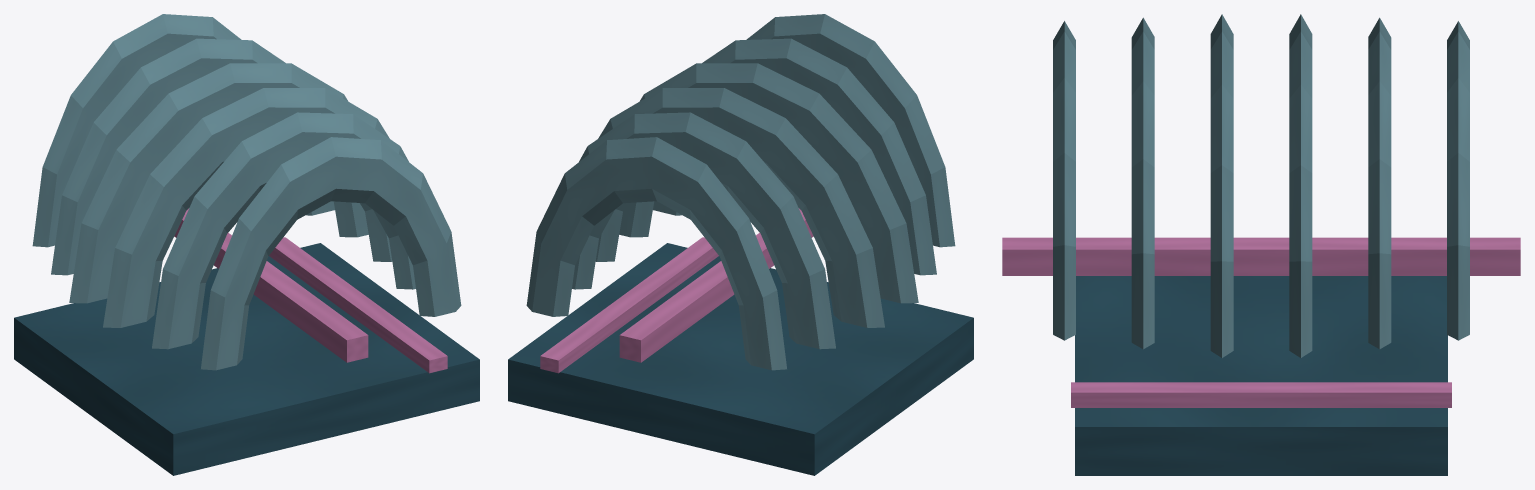
The model's file is atlas100-s061-a01.lod2.glb.
3 views of the same model, side by side, from view 1: azimuth 30°, elevation 25°; view 2: azimuth 150°, elevation 25°; view 3: azimuth 270°, elevation 25° (orthographic). The views are drawn at different scales.
Visible parts, largest first — view 1: atlas100-s061-a01:part-000, atlas100-s061-a01:part-008, atlas100-s061-a01:part-006, atlas100-s061-a01:part-007, atlas100-s061-a01:part-005, atlas100-s061-a01:part-004, atlas100-s061-a01:part-003, atlas100-s061-a01:part-002, atlas100-s061-a01:part-009; view 2: atlas100-s061-a01:part-000, atlas100-s061-a01:part-003, atlas100-s061-a01:part-005, atlas100-s061-a01:part-004, atlas100-s061-a01:part-006, atlas100-s061-a01:part-007, atlas100-s061-a01:part-008, atlas100-s061-a01:part-002, atlas100-s061-a01:part-009; view 3: atlas100-s061-a01:part-000, atlas100-s061-a01:part-009, atlas100-s061-a01:part-002, atlas100-s061-a01:part-005, atlas100-s061-a01:part-006, atlas100-s061-a01:part-004, atlas100-s061-a01:part-007, atlas100-s061-a01:part-003, atlas100-s061-a01:part-008.
Part boxes in pixels (x1,y1,x2,y2): atlas100-s061-a01:part-000: (14, 243, 479, 475); atlas100-s061-a01:part-008: (201, 137, 461, 370); atlas100-s061-a01:part-006: (103, 88, 392, 327); atlas100-s061-a01:part-007: (152, 112, 415, 349); atlas100-s061-a01:part-005: (69, 63, 368, 303); atlas100-s061-a01:part-004: (51, 38, 334, 275); atlas100-s061-a01:part-003: (32, 14, 241, 247); atlas100-s061-a01:part-002: (269, 237, 447, 373); atlas100-s061-a01:part-009: (174, 208, 368, 362); atlas100-s061-a01:part-000: (508, 243, 973, 475); atlas100-s061-a01:part-003: (526, 137, 786, 370); atlas100-s061-a01:part-005: (595, 88, 884, 327); atlas100-s061-a01:part-004: (572, 112, 835, 349); atlas100-s061-a01:part-006: (619, 63, 918, 303); atlas100-s061-a01:part-007: (653, 38, 936, 275); atlas100-s061-a01:part-008: (746, 14, 955, 247); atlas100-s061-a01:part-002: (540, 237, 718, 373); atlas100-s061-a01:part-009: (619, 208, 813, 362); atlas100-s061-a01:part-000: (1075, 276, 1447, 475); atlas100-s061-a01:part-009: (1002, 237, 1520, 275); atlas100-s061-a01:part-002: (1071, 382, 1451, 407); atlas100-s061-a01:part-005: (1289, 14, 1312, 357); atlas100-s061-a01:part-006: (1210, 14, 1233, 357); atlas100-s061-a01:part-004: (1368, 17, 1391, 349); atlas100-s061-a01:part-007: (1131, 17, 1154, 349); atlas100-s061-a01:part-003: (1447, 21, 1469, 340); atlas100-s061-a01:part-008: (1053, 21, 1075, 340).
Bounding box in the file's own units: 2.1 × 1.9 × 2.5.
Materials: 3 (3 with a texture image).
